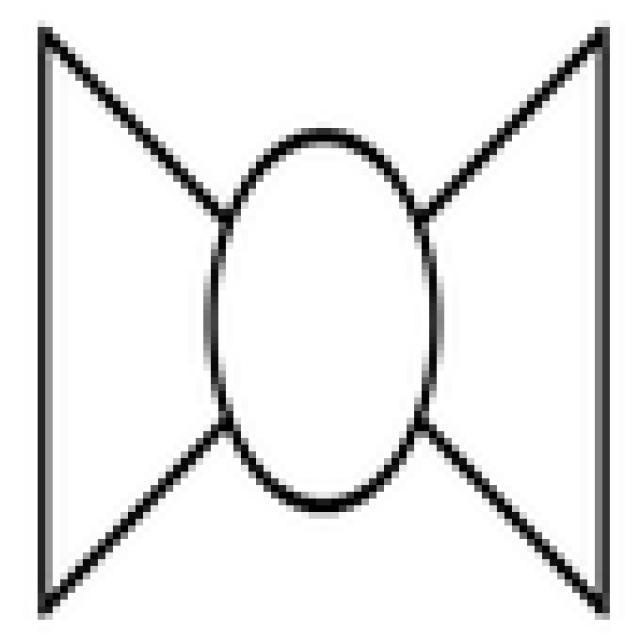ball valve: (48, 23, 610, 619)
